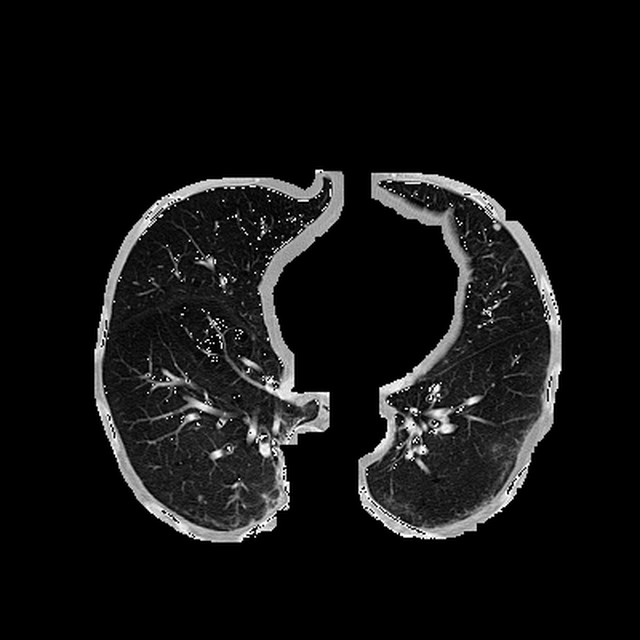PN: (491, 221, 501, 230)
